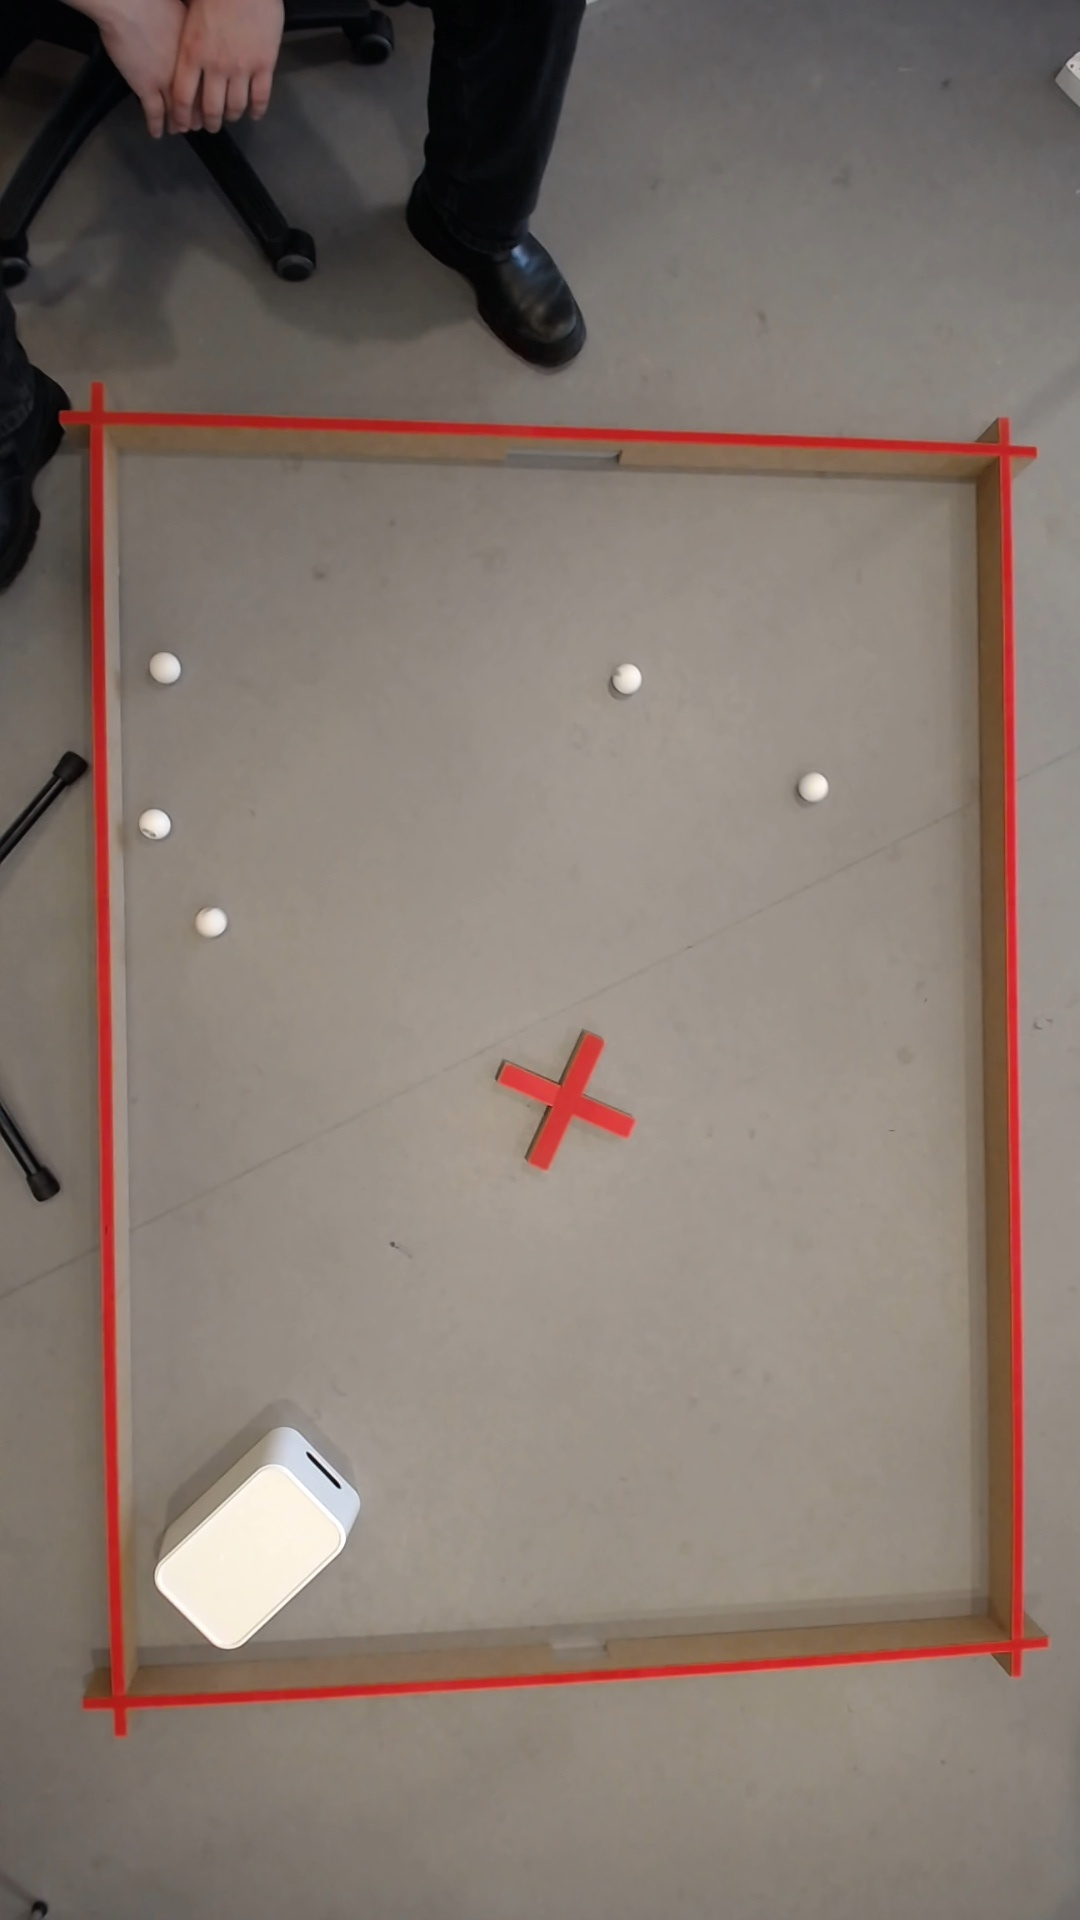balls: (144, 1424, 378, 1663), (136, 803, 175, 840), (195, 903, 231, 939), (152, 650, 183, 683), (799, 769, 831, 802), (617, 663, 641, 691)
car: (302, 1448, 343, 1491)
